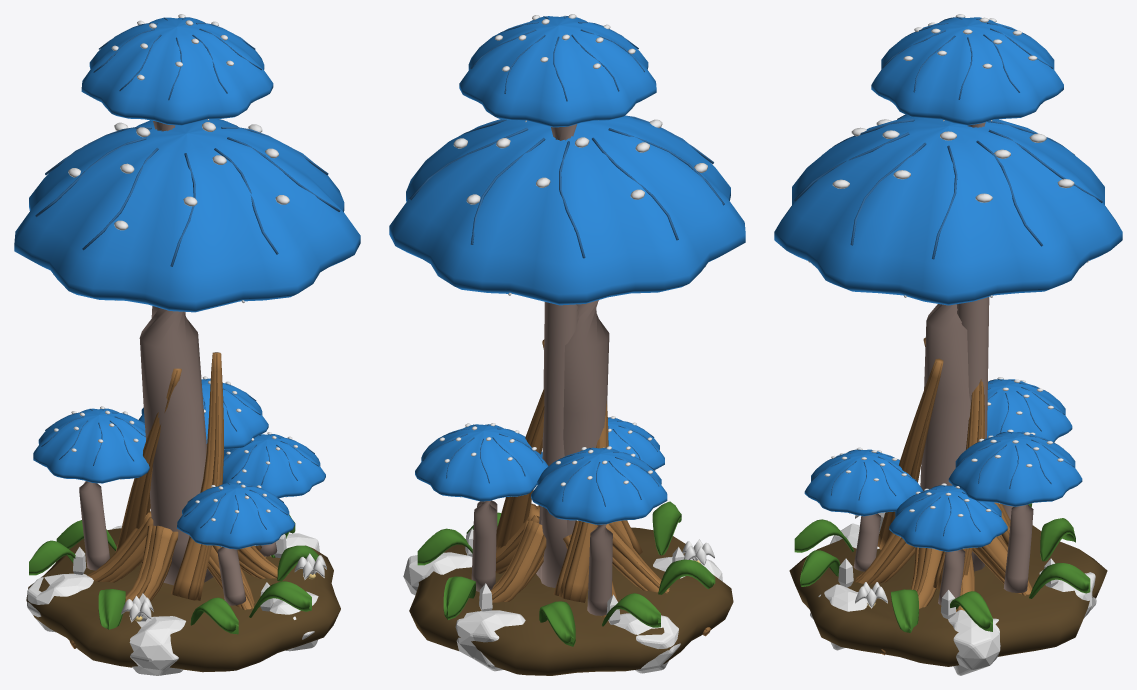
Rendered from mushroom-5.fbx.
The picture shows the model from 3 angles, left to right: view 1: azimuth 30°, elevation 25°; view 2: azimuth 150°, elevation 25°; view 3: azimuth 270°, elevation 25°; orthographic projection. The views are drawn at different scales.
Visible parts, largest first — view 1: Petals_PortalCap, Turret_PortalCap, mushroom-5_Organic, Core_PortalCap, Turret_Bark, mushroom-5_Bark, mushroom-5_PortalBamboo, mushroom-5_Stone, Petals_Glow, mushroom-5_Petal, mushroom-5_SuperGlow, Turret_Glow; view 2: Petals_PortalCap, Core_PortalCap, Turret_PortalCap, mushroom-5_Organic, mushroom-5_PortalBamboo, mushroom-5_Stone, mushroom-5_Bark, Turret_Bark, Petals_Glow, mushroom-5_SuperGlow, Turret_Glow; view 3: Petals_PortalCap, Turret_PortalCap, Core_PortalCap, mushroom-5_Organic, mushroom-5_PortalBamboo, mushroom-5_Bark, mushroom-5_Stone, Turret_Bark, Petals_Glow, mushroom-5_SuperGlow, Turret_Glow.
Boxes of the visible parts, bbox=[...] form: Petals_PortalCap: bbox=[14, 119, 360, 585]; Turret_PortalCap: bbox=[33, 378, 325, 605]; mushroom-5_Organic: bbox=[26, 528, 340, 672]; Core_PortalCap: bbox=[81, 17, 273, 314]; Turret_Bark: bbox=[116, 352, 261, 600]; mushroom-5_Bark: bbox=[69, 511, 277, 648]; mushroom-5_PortalBamboo: bbox=[29, 515, 318, 634]; mushroom-5_Stone: bbox=[27, 525, 319, 675]; Petals_Glow: bbox=[53, 122, 289, 303]; mushroom-5_Petal: bbox=[121, 553, 326, 622]; mushroom-5_SuperGlow: bbox=[73, 534, 286, 621]; Turret_Glow: bbox=[54, 376, 301, 545]; Petals_PortalCap: bbox=[389, 115, 745, 578]; Core_PortalCap: bbox=[459, 16, 656, 587]; Turret_PortalCap: bbox=[415, 417, 667, 615]; mushroom-5_Organic: bbox=[409, 527, 733, 675]; mushroom-5_PortalBamboo: bbox=[417, 501, 715, 646]; mushroom-5_Stone: bbox=[403, 552, 722, 673]; mushroom-5_Bark: bbox=[478, 503, 710, 636]; Turret_Bark: bbox=[496, 339, 642, 602]; Petals_Glow: bbox=[453, 119, 707, 295]; mushroom-5_SuperGlow: bbox=[465, 528, 684, 624]; Turret_Glow: bbox=[439, 416, 652, 520]; Petals_PortalCap: bbox=[774, 114, 1122, 571]; Turret_PortalCap: bbox=[804, 379, 1082, 605]; Core_PortalCap: bbox=[871, 17, 1063, 571]; mushroom-5_Organic: bbox=[789, 525, 1107, 666]; mushroom-5_PortalBamboo: bbox=[794, 503, 1090, 632]; mushroom-5_Bark: bbox=[855, 532, 1032, 655]; mushroom-5_Stone: bbox=[810, 523, 1096, 675]; Turret_Bark: bbox=[877, 338, 1010, 589]; Petals_Glow: bbox=[808, 119, 1088, 297]; mushroom-5_SuperGlow: bbox=[838, 512, 1058, 619]; Turret_Glow: bbox=[816, 377, 1063, 549].
Size of the model in its own units: 89.38 by 170 by 90.54.
